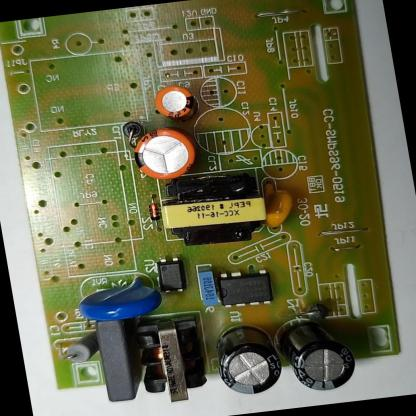Cap1: (128, 124, 199, 183)
Cap2: (151, 82, 196, 121)
Cap3: (213, 320, 285, 398)
Cap4: (279, 315, 360, 396)
MOSFET: (215, 268, 277, 310)
Mov: (74, 273, 164, 326)
Resistor: (63, 330, 102, 366)
Transformer: (157, 166, 274, 252), (129, 312, 211, 407)
